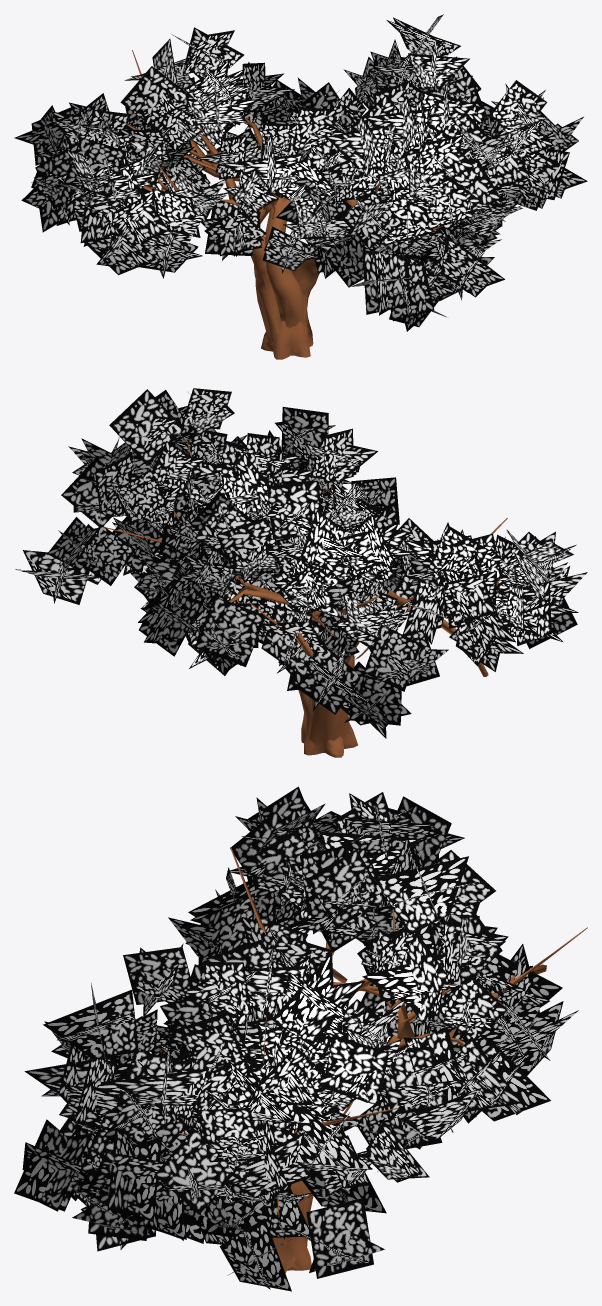
File: forest_large_tree.glb
3 renders of one model, top to bottom at view 1: azimuth 30°, elevation 25°; view 2: azimuth 150°, elevation 25°; view 3: azimuth 270°, elevation 25°, orthographic. The views are drawn at different scales.
Parts seen in each view (by area): view 1: leaves, tree; view 2: leaves, tree; view 3: leaves, tree.
Part boxes in pixels (box(x1,y1,x2,y2)): leaves: box(14, 14, 587, 331); tree: box(127, 50, 443, 359); leaves: box(15, 388, 587, 738); tree: box(105, 440, 507, 757); leaves: box(14, 786, 578, 1291); tree: box(162, 847, 587, 1273).
Bounding box in the file's own units: 17.28 × 9.39 × 12.26.
2 materials, 1 textured.
